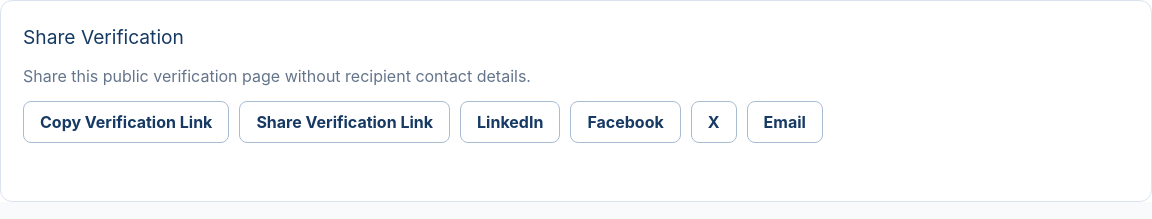
ShareControls › uses native sharing and announces a declined share
Click the button "Share Verification Link" at (345, 122), box [239,101,450,143]
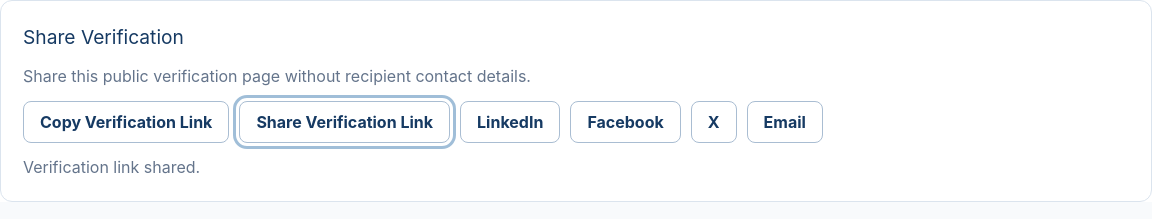
Click the button "Share Verification Link" at (345, 122), box [239,101,450,143]
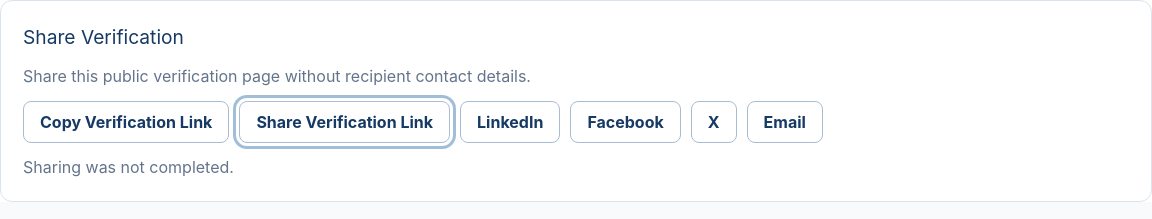
Result: the message shows "Sharing was not completed" at [23,157,234,177]
